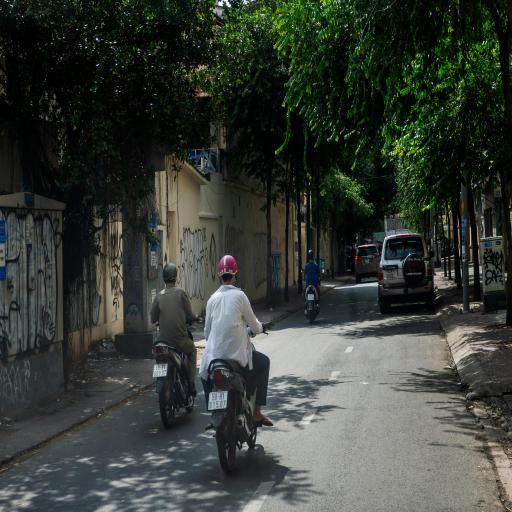place: (208, 391, 226, 409), (153, 365, 168, 376), (386, 270, 396, 278), (308, 294, 314, 301), (365, 258, 370, 264)
